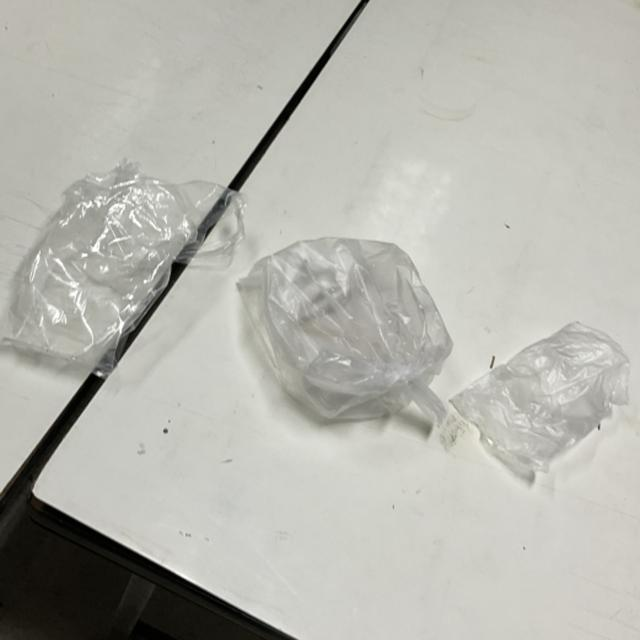Single-layer Plastic: (5, 161, 245, 376), (238, 238, 452, 422), (450, 322, 630, 477)
